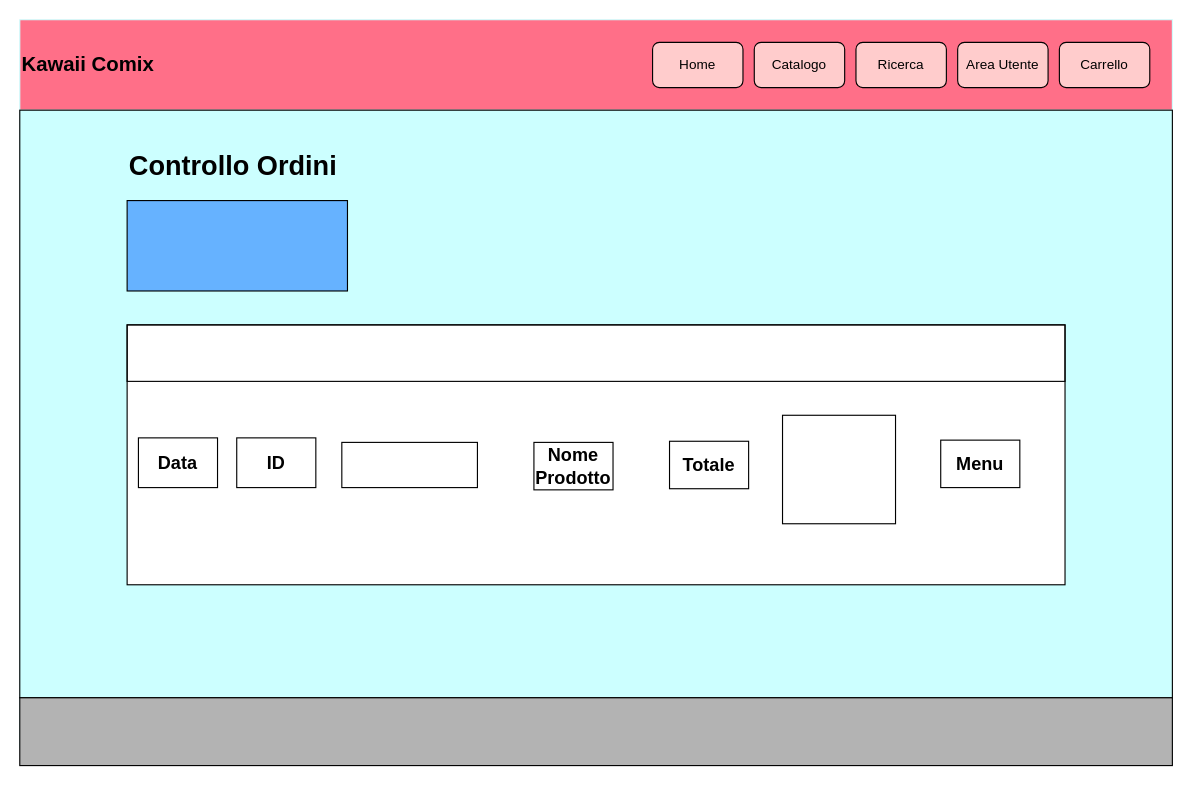
Image size: 1192x785. Some labels were removed from this diagram. Here are the shapes that lost their labels. From the top down, the centre of each, then its label:
At pixel 236 245: "Filtri".
At pixel 595 352: "Data ID Utente C odice Ordine Nome T otale Stato Modifica Stato".
At pixel 409 464: "Codice".
At pixel 838 469: "Stato Attuale dell'Ordine".
At pixel 595 731: "Footer".
